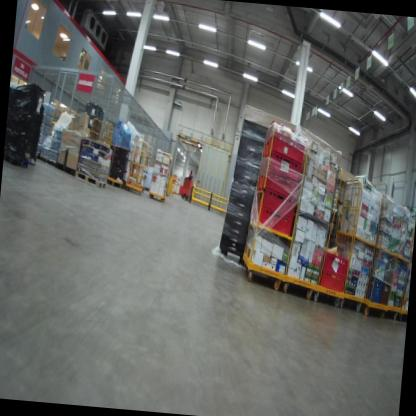pallet: (74, 169, 108, 188)
pallet_truck: (179, 172, 200, 201)
